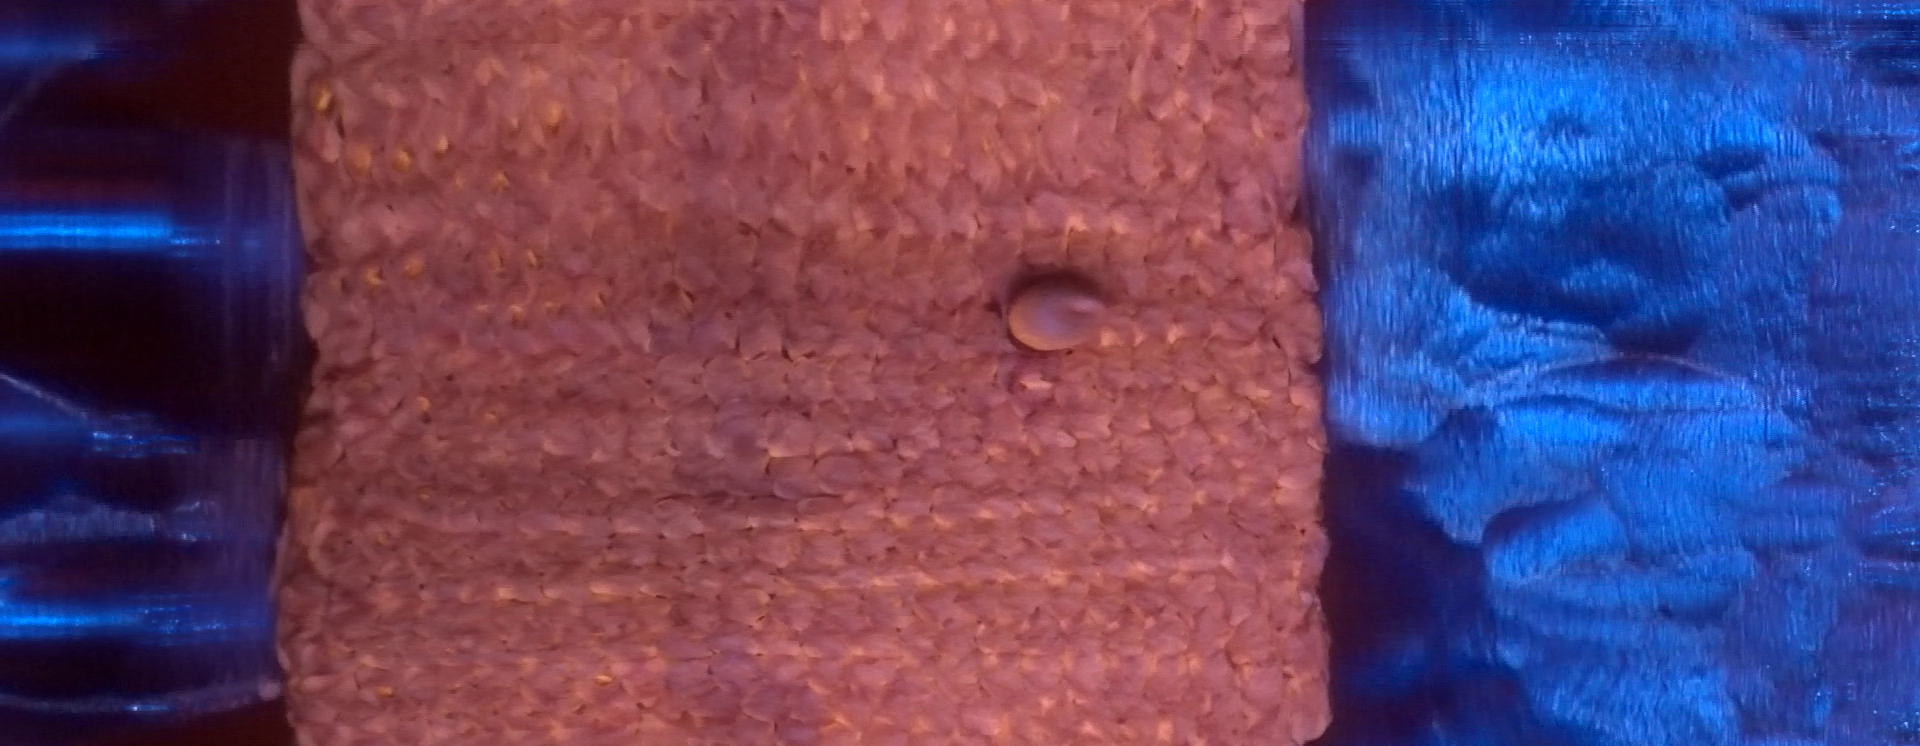nonfluorescent: (997, 274, 1119, 358)
